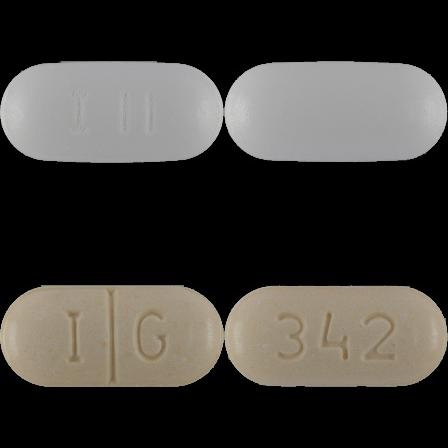31722-339: (0, 0, 224, 224)
